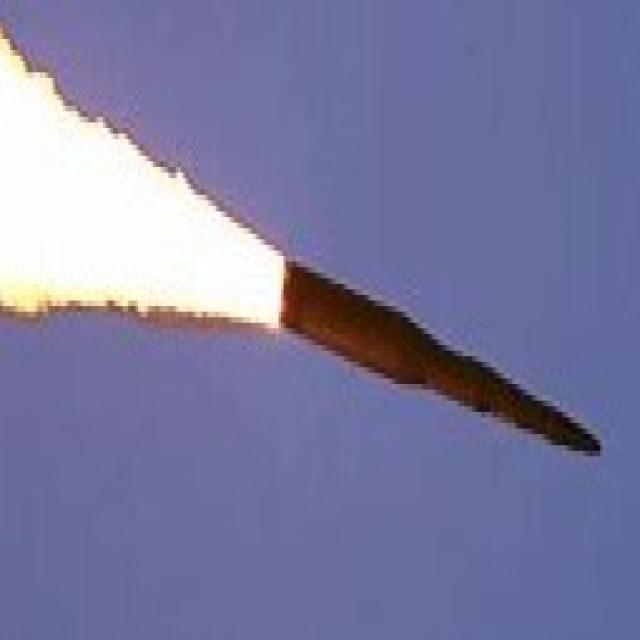missile: (283, 258, 607, 462)
